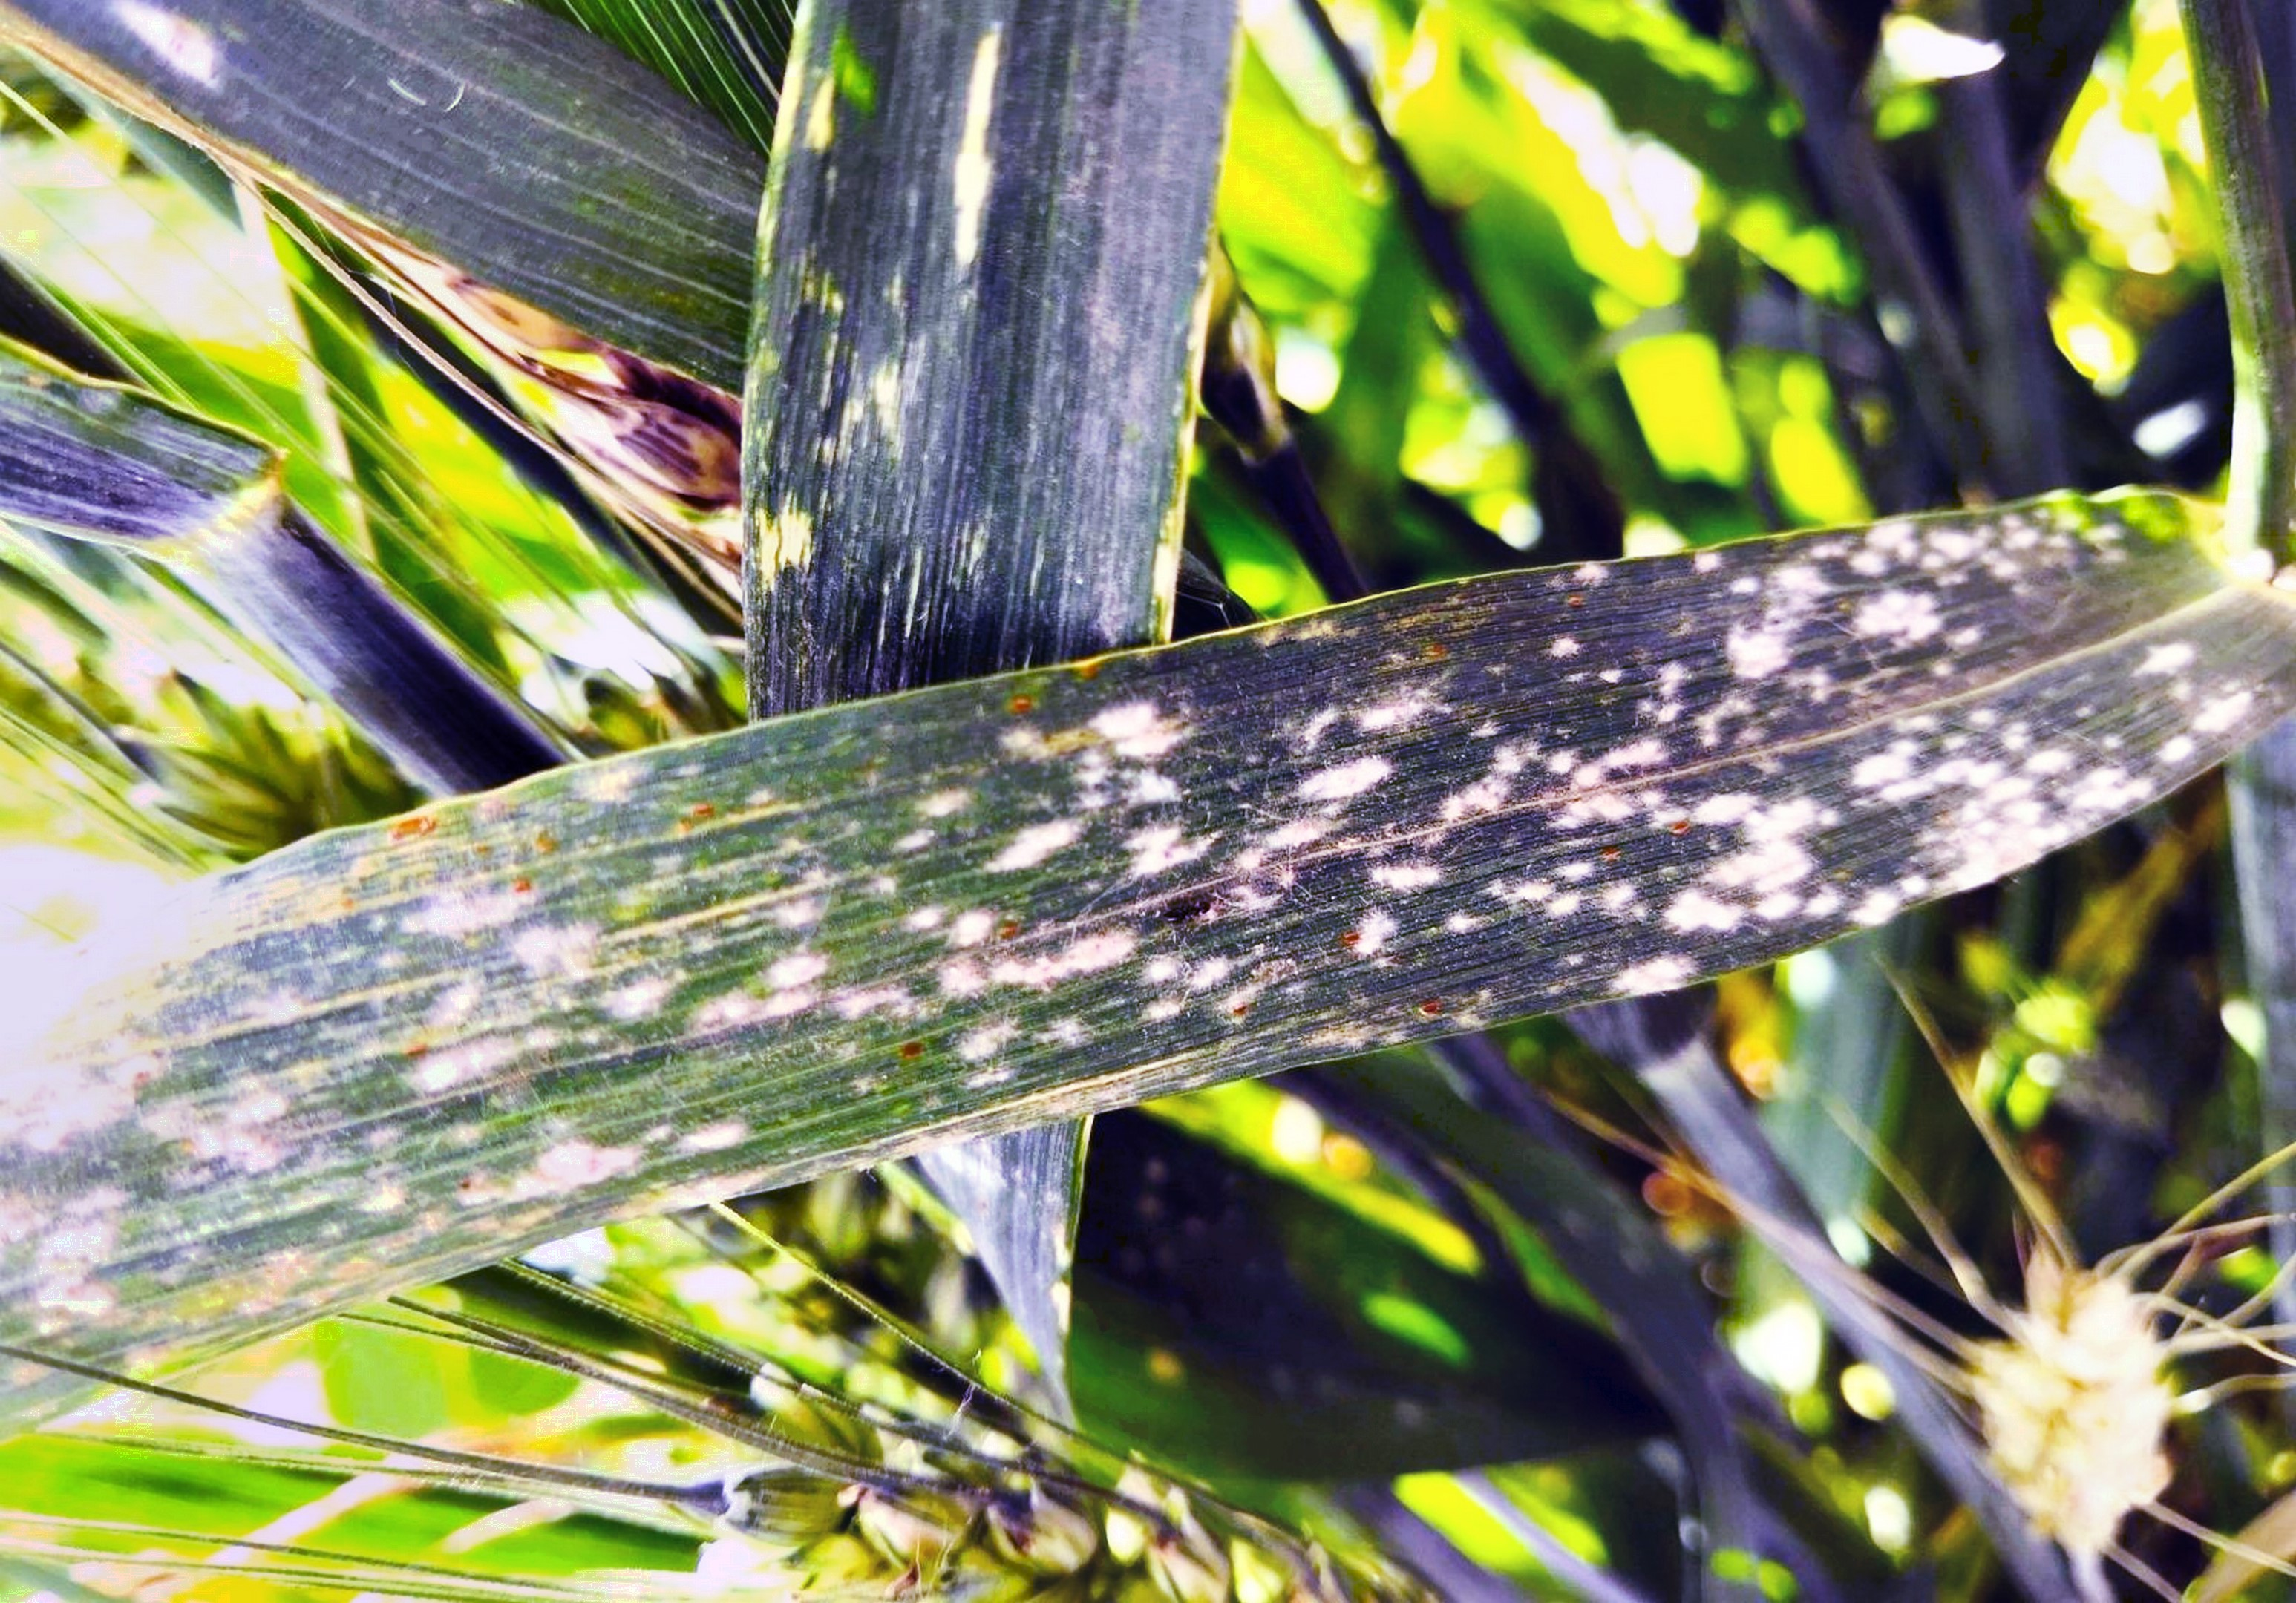Powdery Mildew: (473, 443, 2149, 1116)
